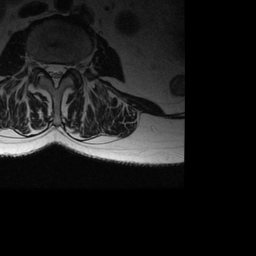CCS_normal: (52, 56, 59, 94)
LFS_severe_stenosis: (67, 57, 74, 78)
LLS_stenosis: (59, 55, 67, 85)
RFS_normal: (36, 52, 44, 77)
RLS_normal: (44, 56, 52, 81)
